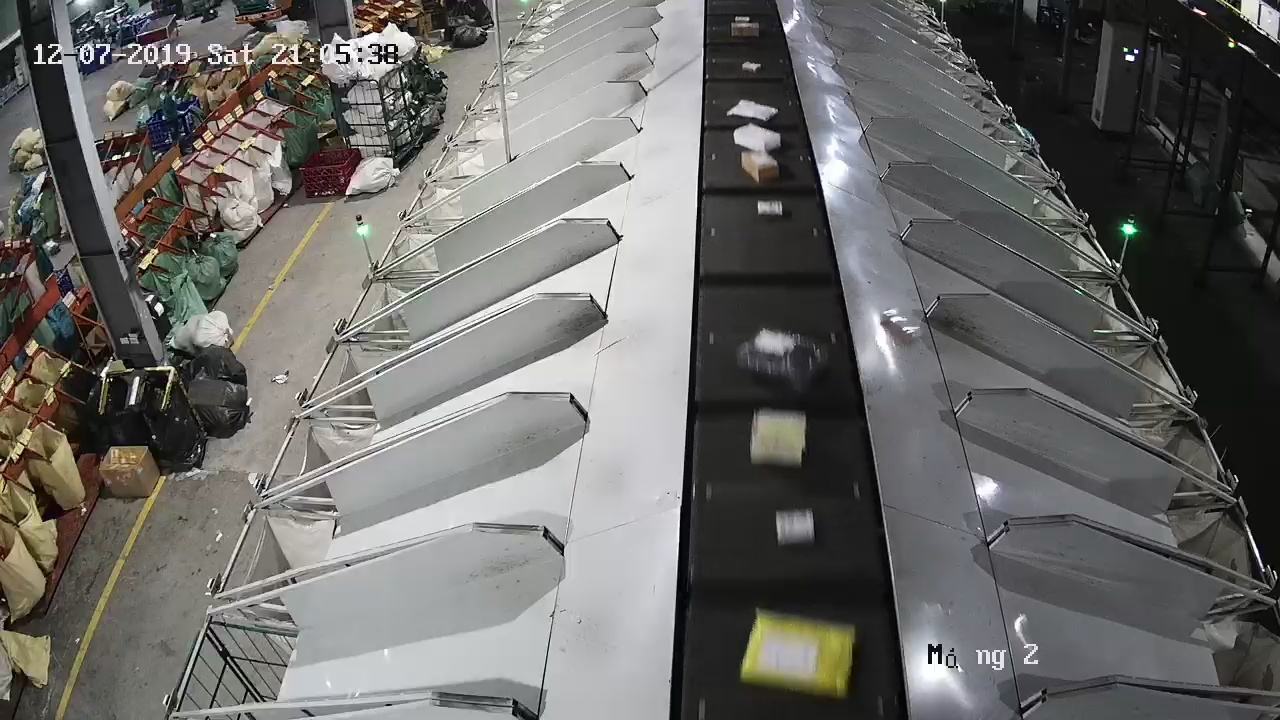parcel: (880, 307, 921, 343)
